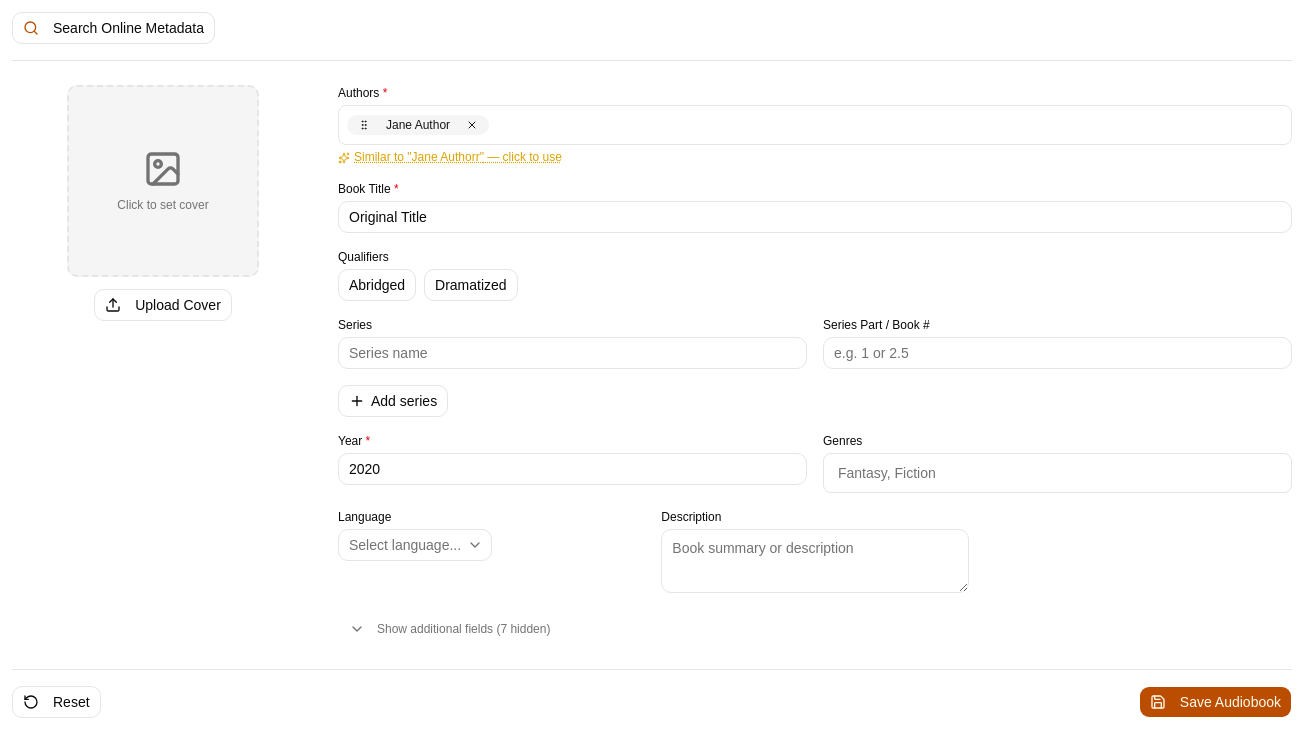
Test case: BookEditForm › clears the author hint once the flagged entry is fixed by editing it directly
expect the button "Similar to \"Jane Authorr\" — click to use" is shown: met, box [338, 149, 562, 165]
Click the button with aria-label "Edit Jane Author" at [418, 125], box [380, 111, 456, 139]
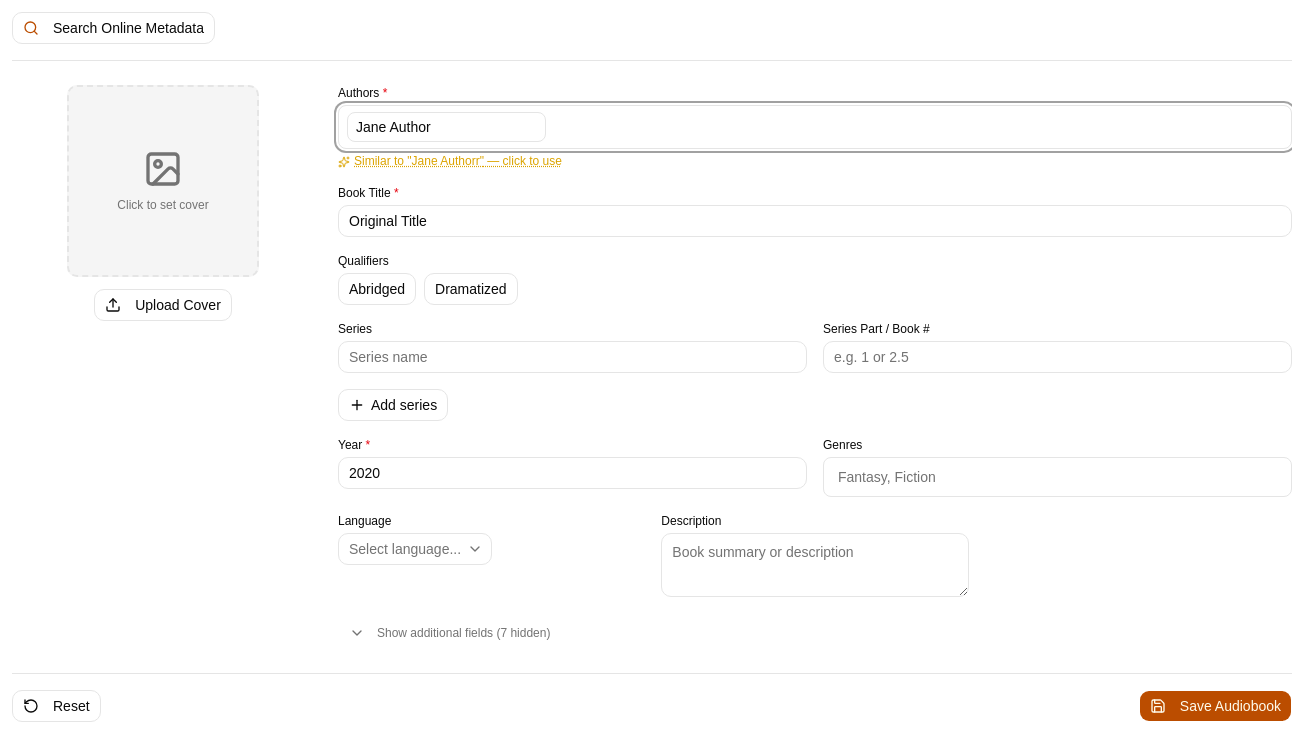
Replace the text in the field showing "Jane Author" below "Authors" with "Someone Else Entirely" at [446, 127], box [347, 112, 546, 142]
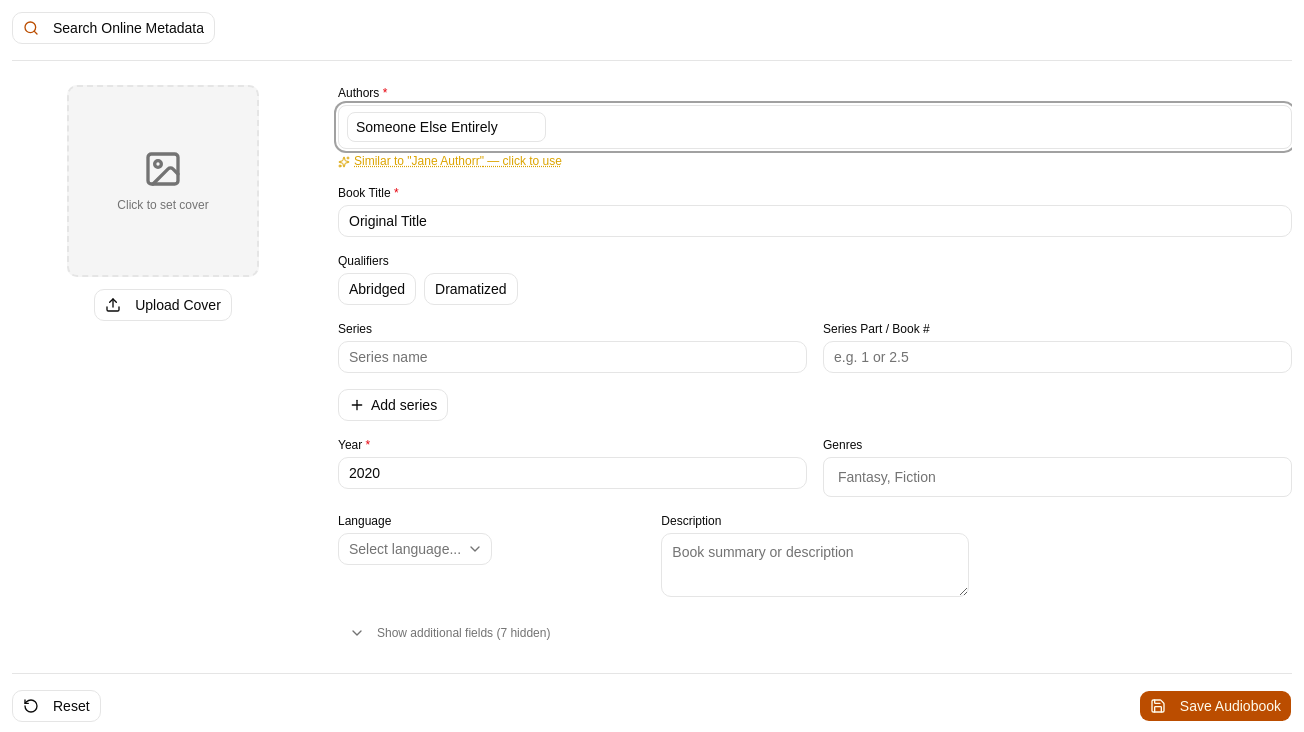
Press Enter in the field showing "Jane Author" below "Authors", box [347, 112, 546, 142]
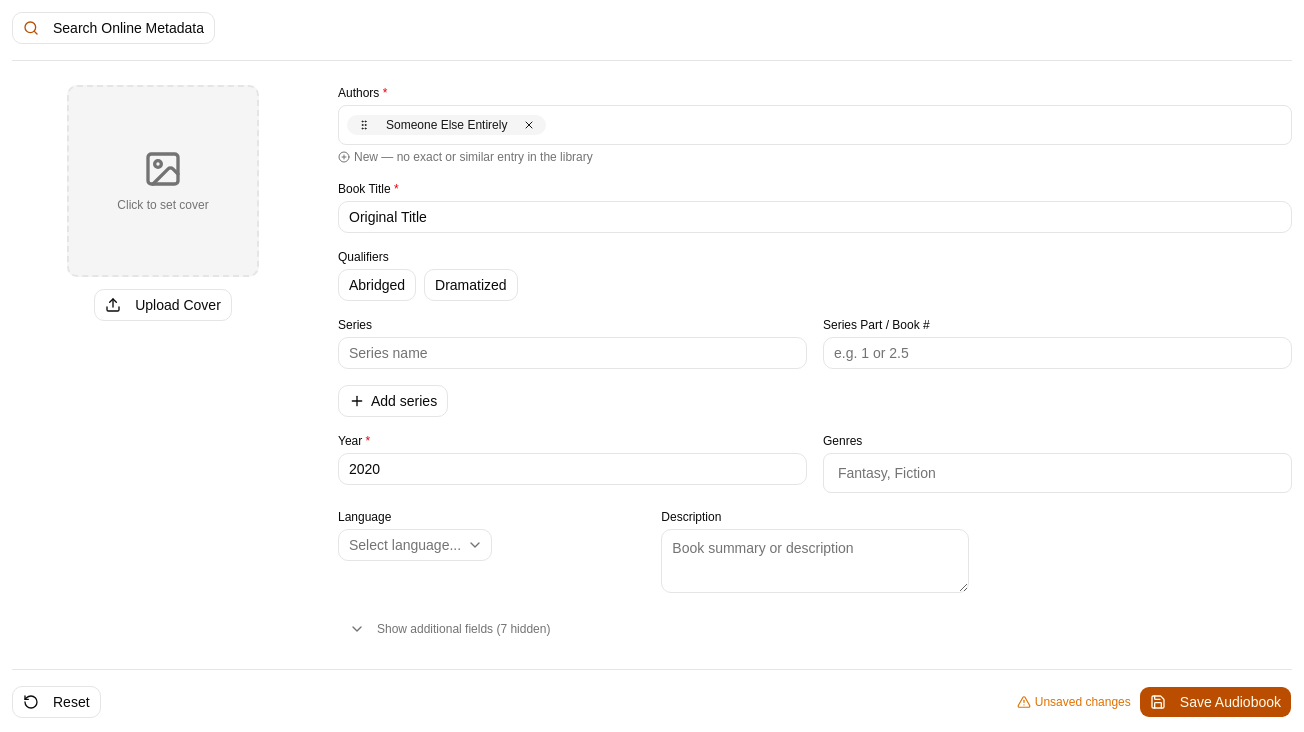
expect the button "Similar to \"Jane Authorr\" — click to use" is gone: met
expect the button "Someone Else Entirely" is shown: met, box [380, 115, 513, 135]
